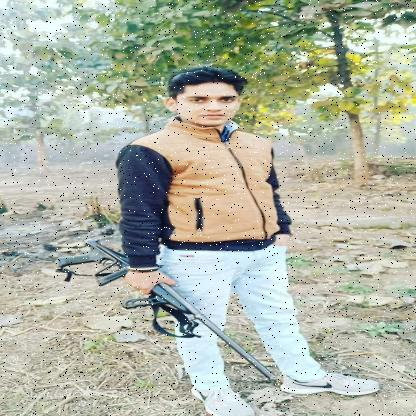rifle: (53, 237, 278, 381)
